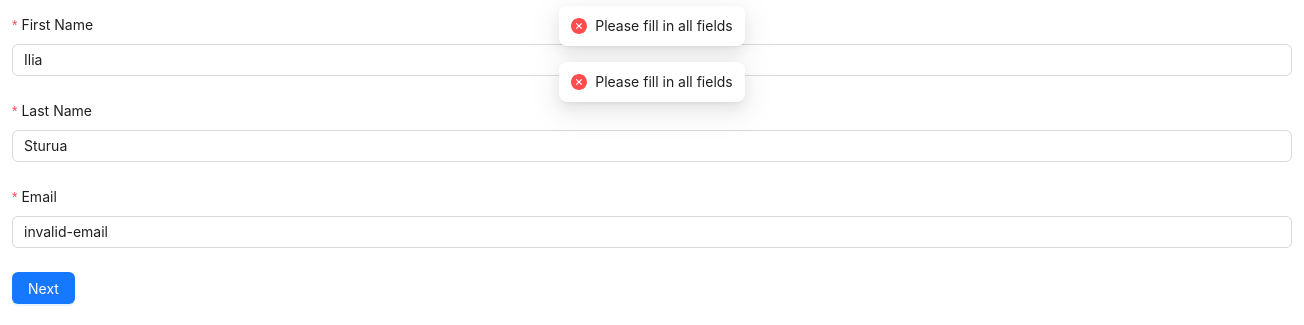
Test case: FirstStep › displays an error message when the email field has an invalid format
Click the button "Next" at x=43, y=288, box [12,272,75,304]
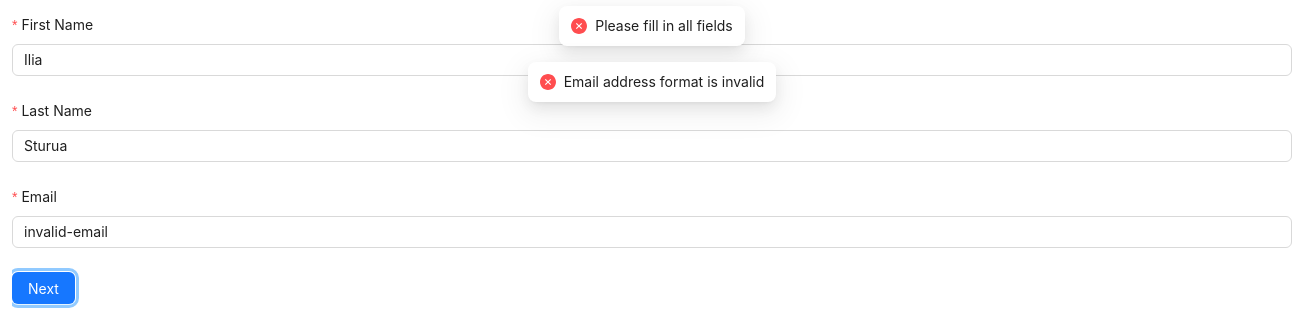
Check: the text "Email address format is invalid" is shown, box [564,71,764,93]
